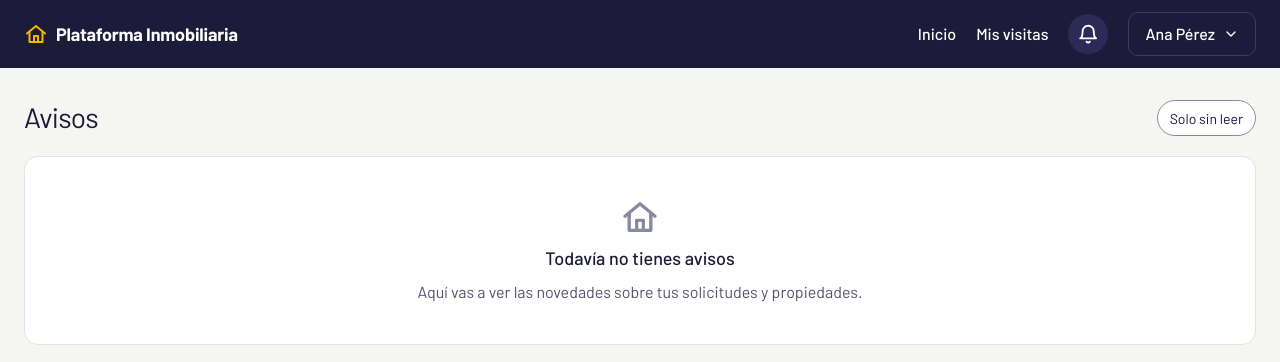
Test case: NotificationsPage › filters unread ones from the URL and asks the API for them
Click the checkbox labelled "Solo sin leer": (1206, 118) [1157,100,1256,136]
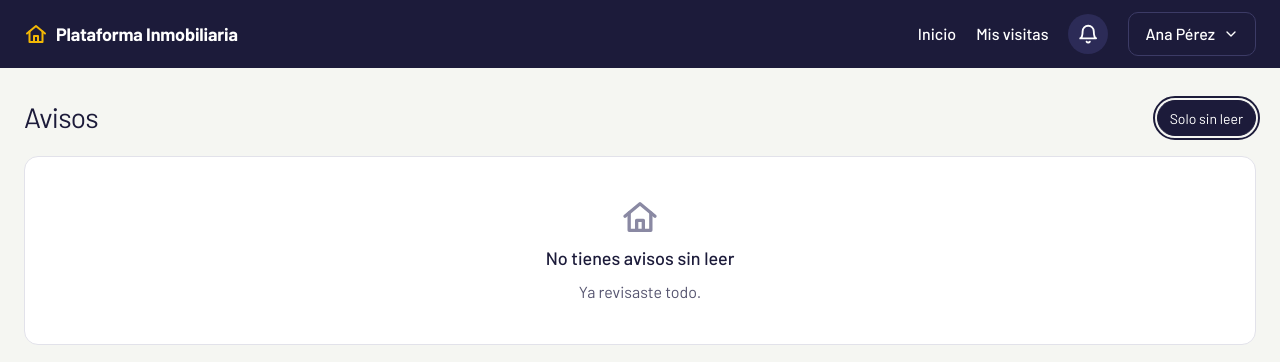
Now the text "No tienes avisos sin leer" is shown, box [546,245,734,272]
